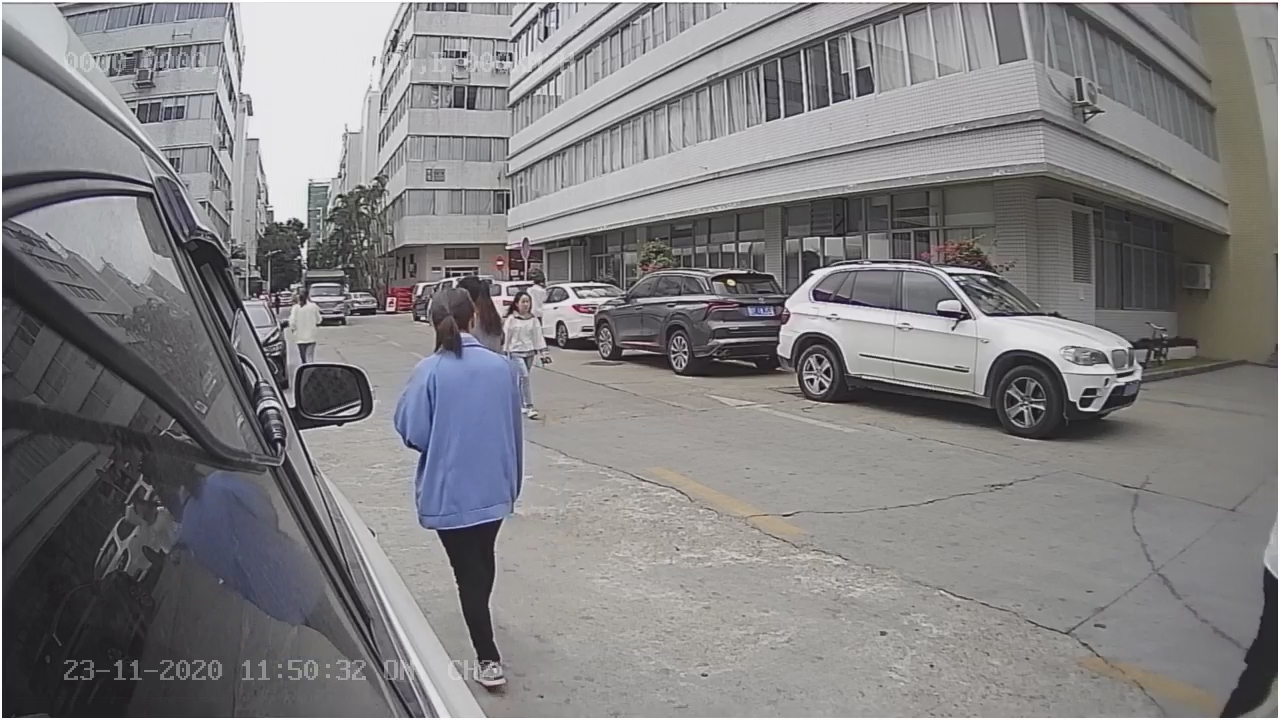person: (387, 281, 541, 479)
